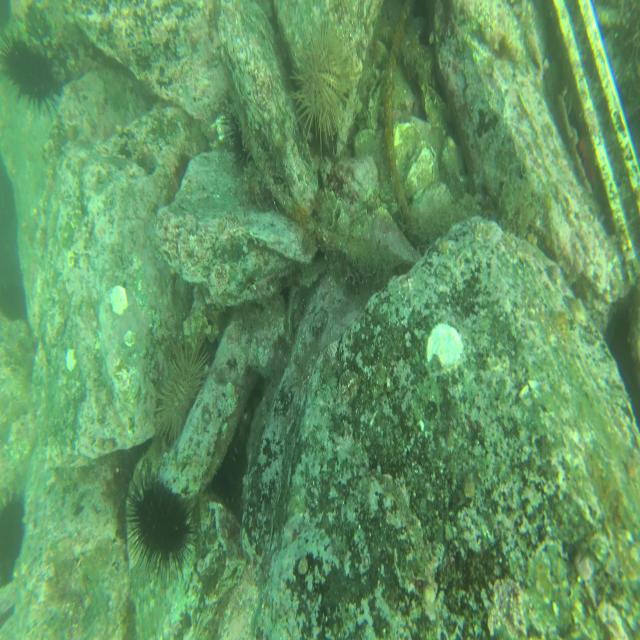echinus: (292, 30, 350, 146), (128, 477, 191, 568), (158, 331, 208, 444), (1, 33, 60, 108), (1, 490, 27, 589)
